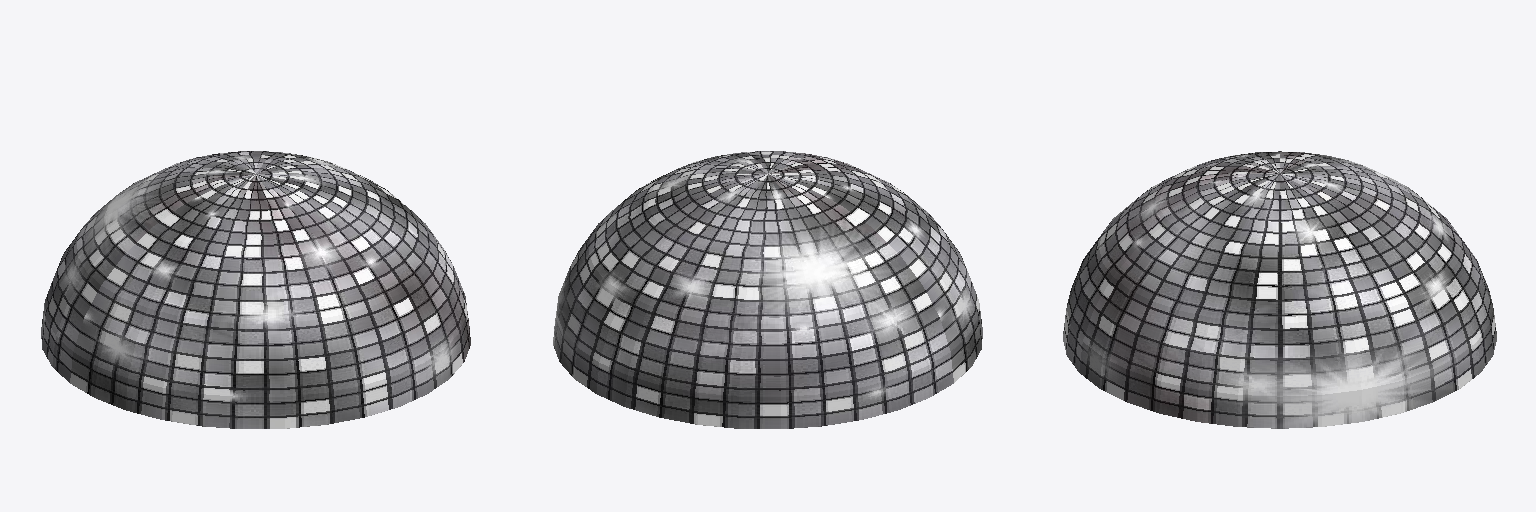
The picture shows the model from 3 angles: view 1: azimuth 30°, elevation 25°; view 2: azimuth 150°, elevation 25°; view 3: azimuth 270°, elevation 25°; orthographic projection.
Parts seen in each view (by area): view 1: Sphere; view 2: Sphere; view 3: Sphere.
Part boxes in pixels (x1,y1,x2,y2): Sphere: (41, 151, 470, 428); Sphere: (553, 151, 982, 428); Sphere: (1063, 151, 1496, 428).
Size of the model in its own units: 5.63 by 2.37 by 5.69.
Materials: 2 (1 with a texture image).